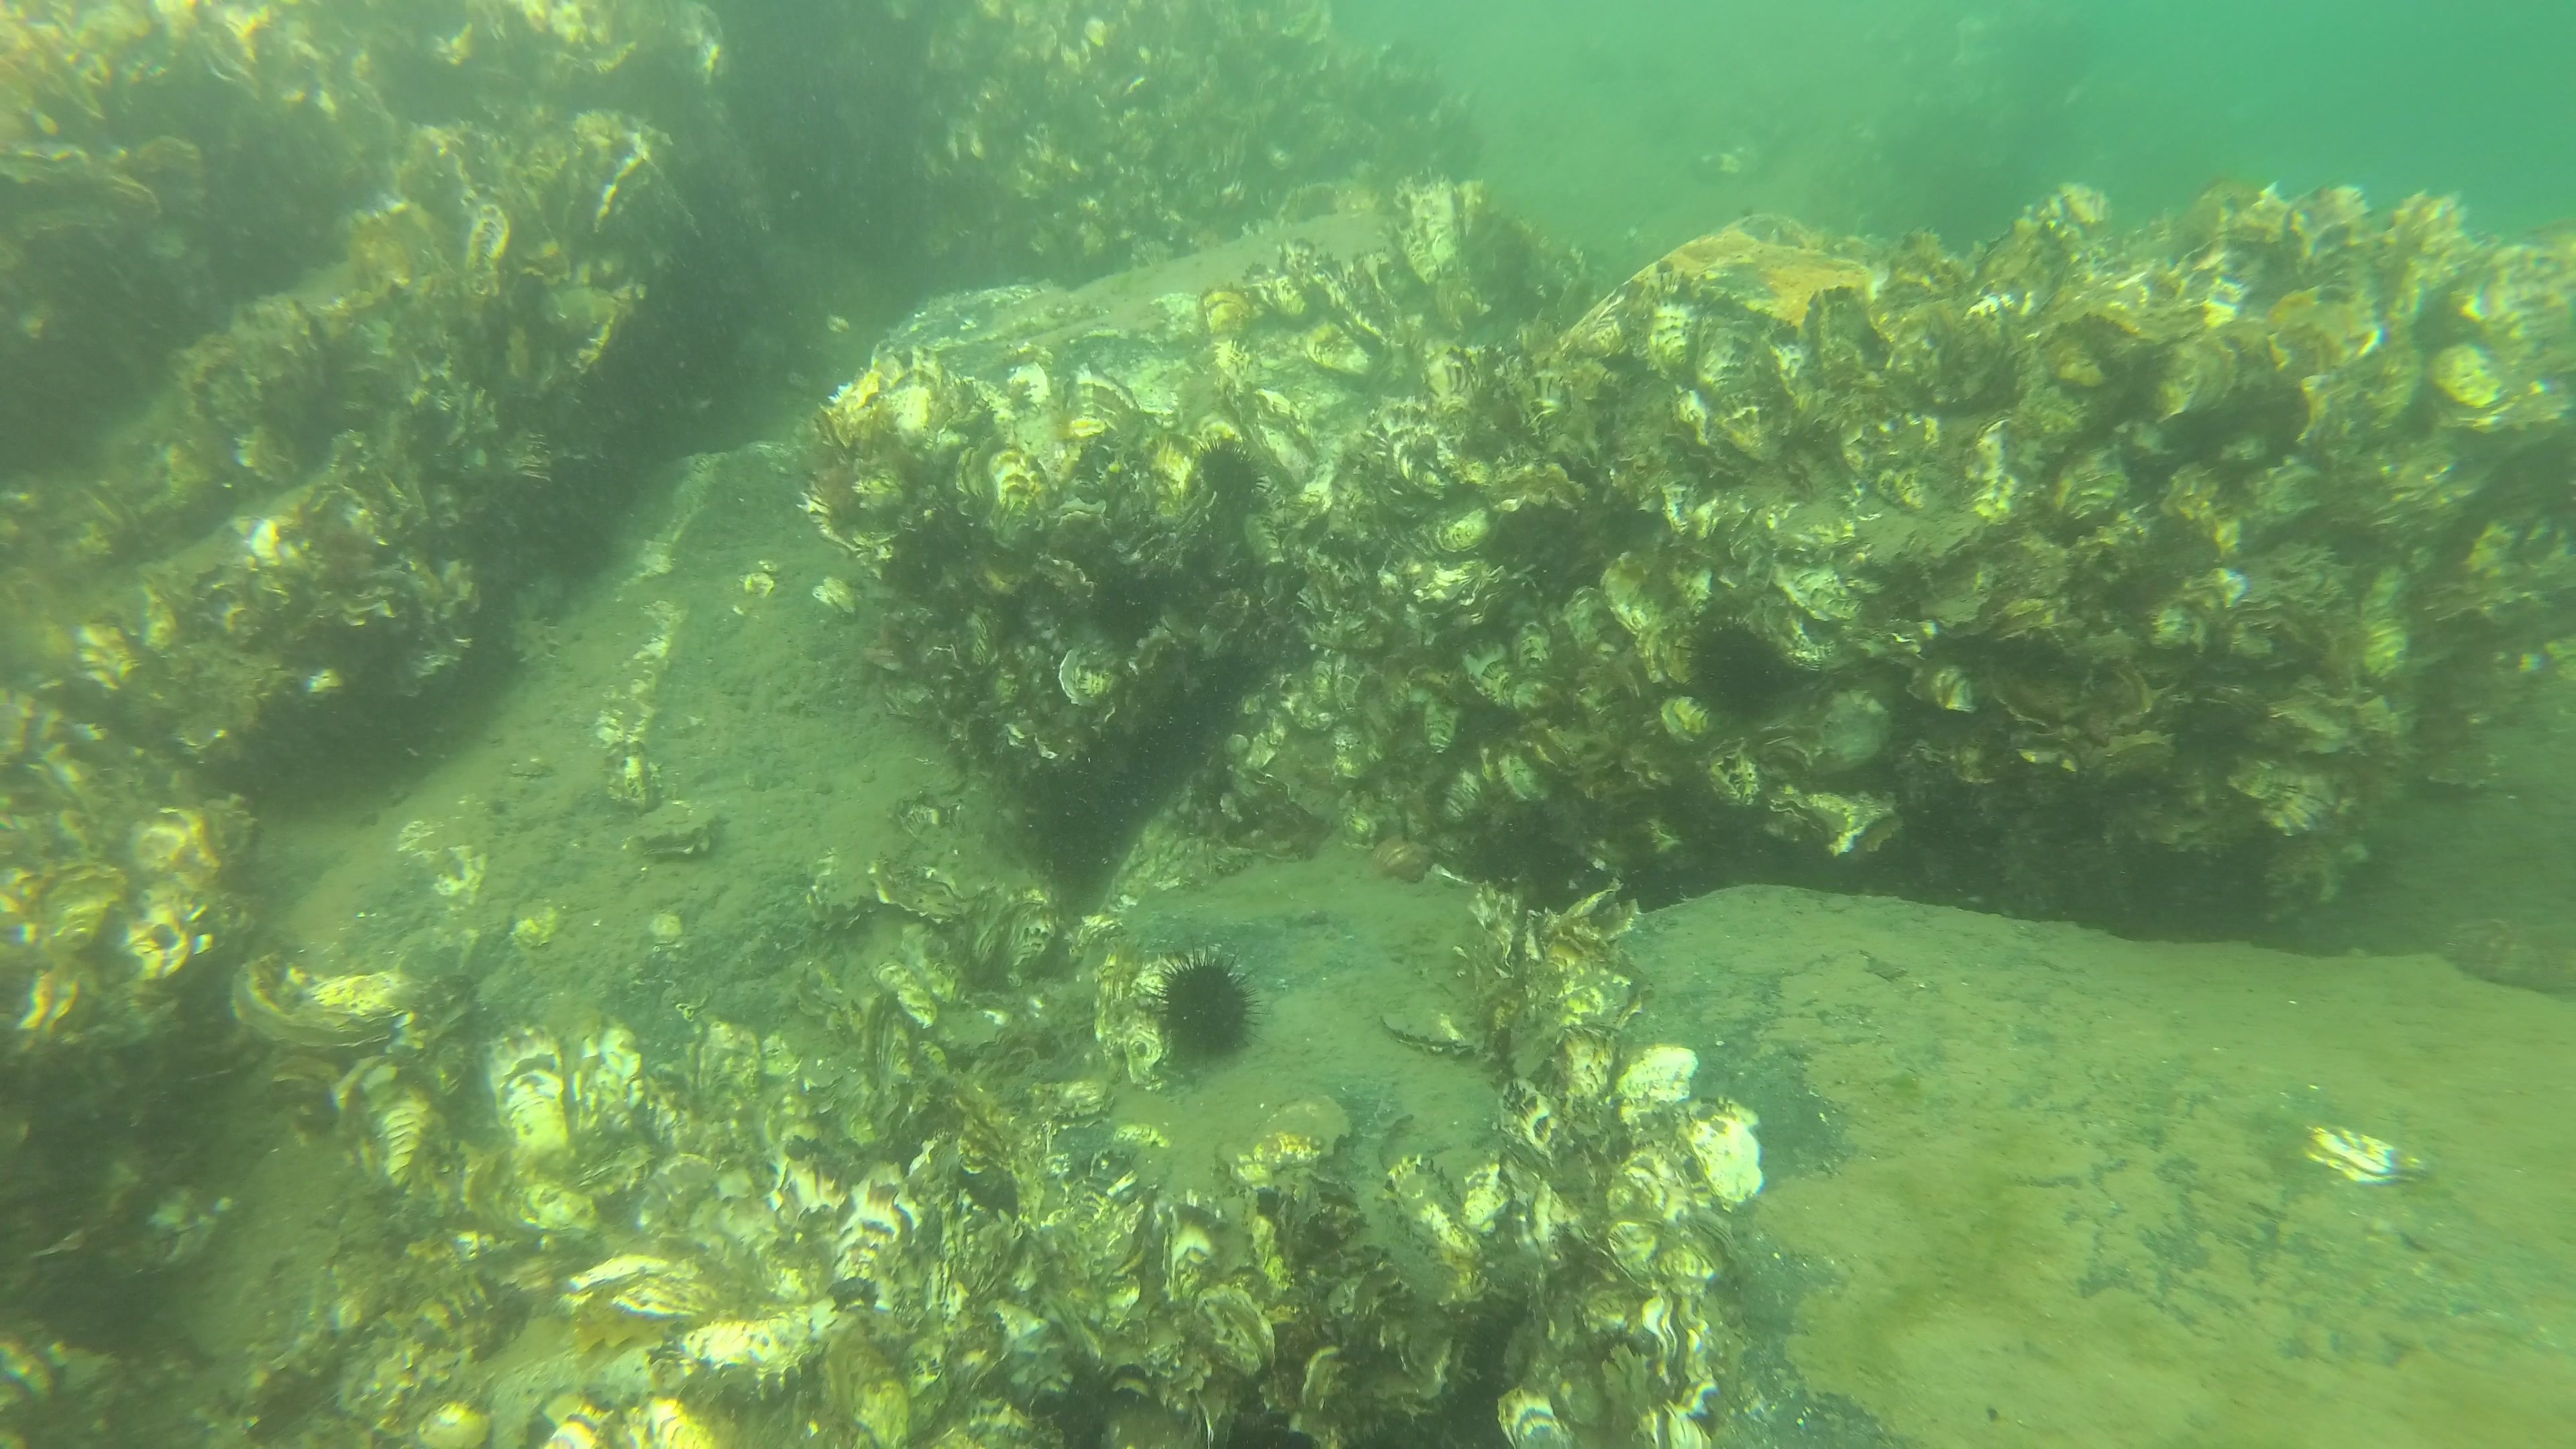echinus: (1152, 943, 1261, 1074), (1681, 614, 1787, 725), (1198, 433, 1261, 506)
